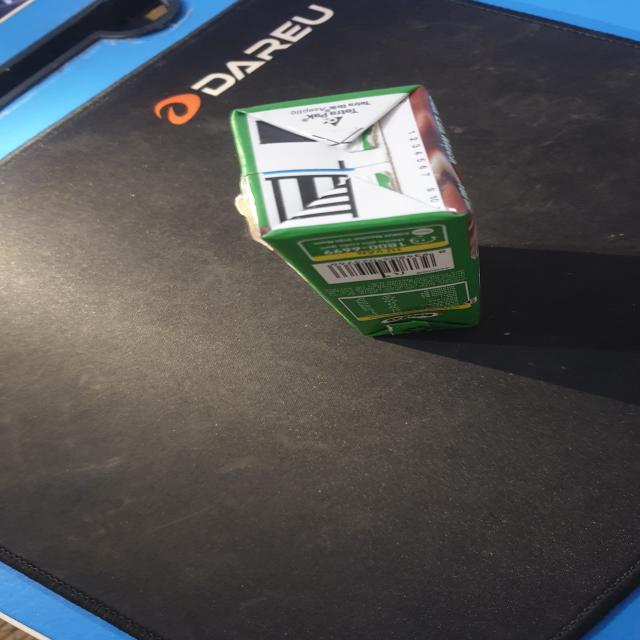Milo: (230, 87, 489, 341)
